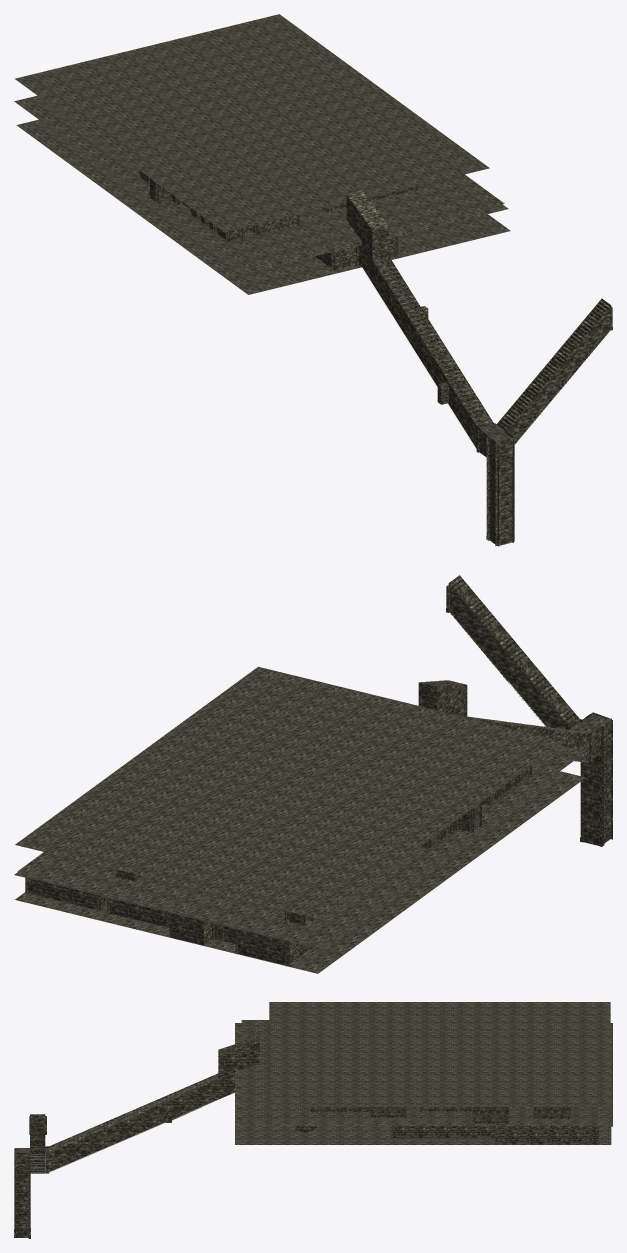
File: 002_zennkiseisaku_meiro2_01_31.fbx
3 renders of one model, top to bottom at view 1: azimuth 30°, elevation 25°; view 2: azimuth 150°, elevation 25°; view 3: azimuth 270°, elevation 25°, orthographic. The views are drawn at different scales.
Parts seen in each view (by area): view 1: tenjou_2kai, kabe_1kai, yuka_2kai, yuka_1kai, tenjou_kaidann, tenjou_kaidann2, hasira, tenjou_1kai; view 2: tenjou_2kai, kabe_1kai, yuka_2kai, yuka_1kai, tenjou_kaidann2, hasira, tenjou_1kai; view 3: tenjou_2kai, kabe_1kai, yuka_2kai, yuka_1kai, tenjou_1kai, tenjou_kaidann, hasira, kaidann.
Boxes of the visible parts, box(x1,y1,x2,y2) form: tenjou_2kai: box(15, 14, 489, 232); kabe_1kai: box(140, 171, 611, 545); yuka_2kai: box(14, 95, 504, 267); yuka_1kai: box(16, 119, 510, 294); tenjou_kaidann: box(372, 255, 492, 426); tenjou_kaidann2: box(497, 300, 609, 430); hasira: box(138, 170, 514, 546); tenjou_1kai: box(242, 204, 508, 272); tenjou_2kai: box(15, 666, 563, 919); kabe_1kai: box(27, 575, 611, 965); yuka_2kai: box(17, 746, 584, 945); yuka_1kai: box(15, 771, 585, 973); tenjou_kaidann2: box(450, 578, 579, 728); hasira: box(25, 718, 612, 965); tenjou_1kai: box(14, 745, 585, 948); tenjou_2kai: box(269, 1002, 610, 1106); kabe_1kai: box(15, 1036, 597, 1237); yuka_2kai: box(241, 1020, 610, 1124); yuka_1kai: box(235, 1126, 611, 1144); tenjou_1kai: box(235, 1023, 612, 1126); tenjou_kaidann: box(49, 1075, 218, 1152); hasira: box(14, 1107, 598, 1238); kaidann: box(30, 1126, 318, 1173).
Bounding box in the file's own units: 973 × 847 × 2346.
